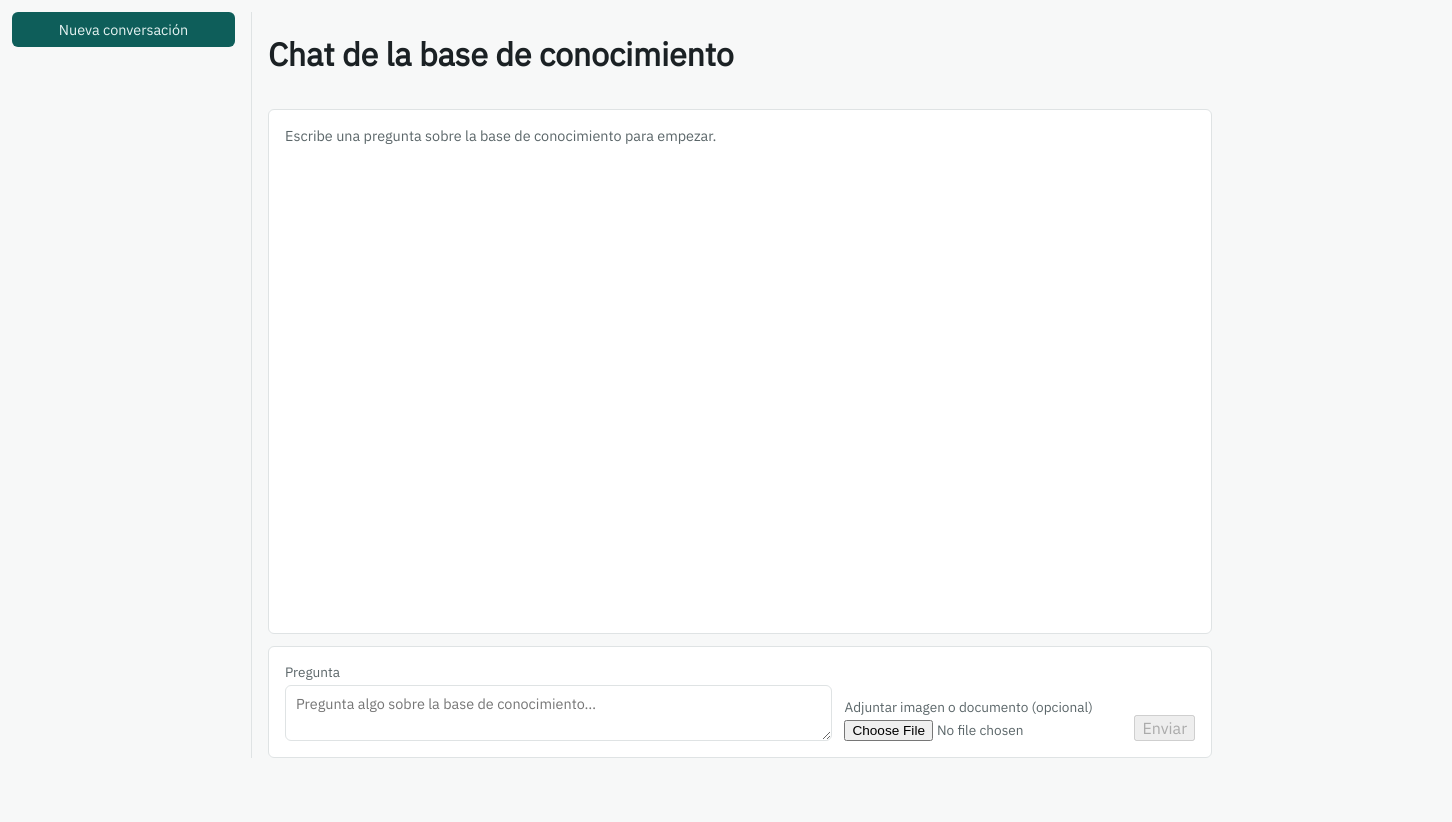
Chat (P-14 Bloque 3, HU-31..34) › muestra un error si el envío falla
Type "una pregunta" into the text box with placeholder "Pregunta algo sobre la base de conocimiento…" at (559, 713), box [285, 685, 832, 741]
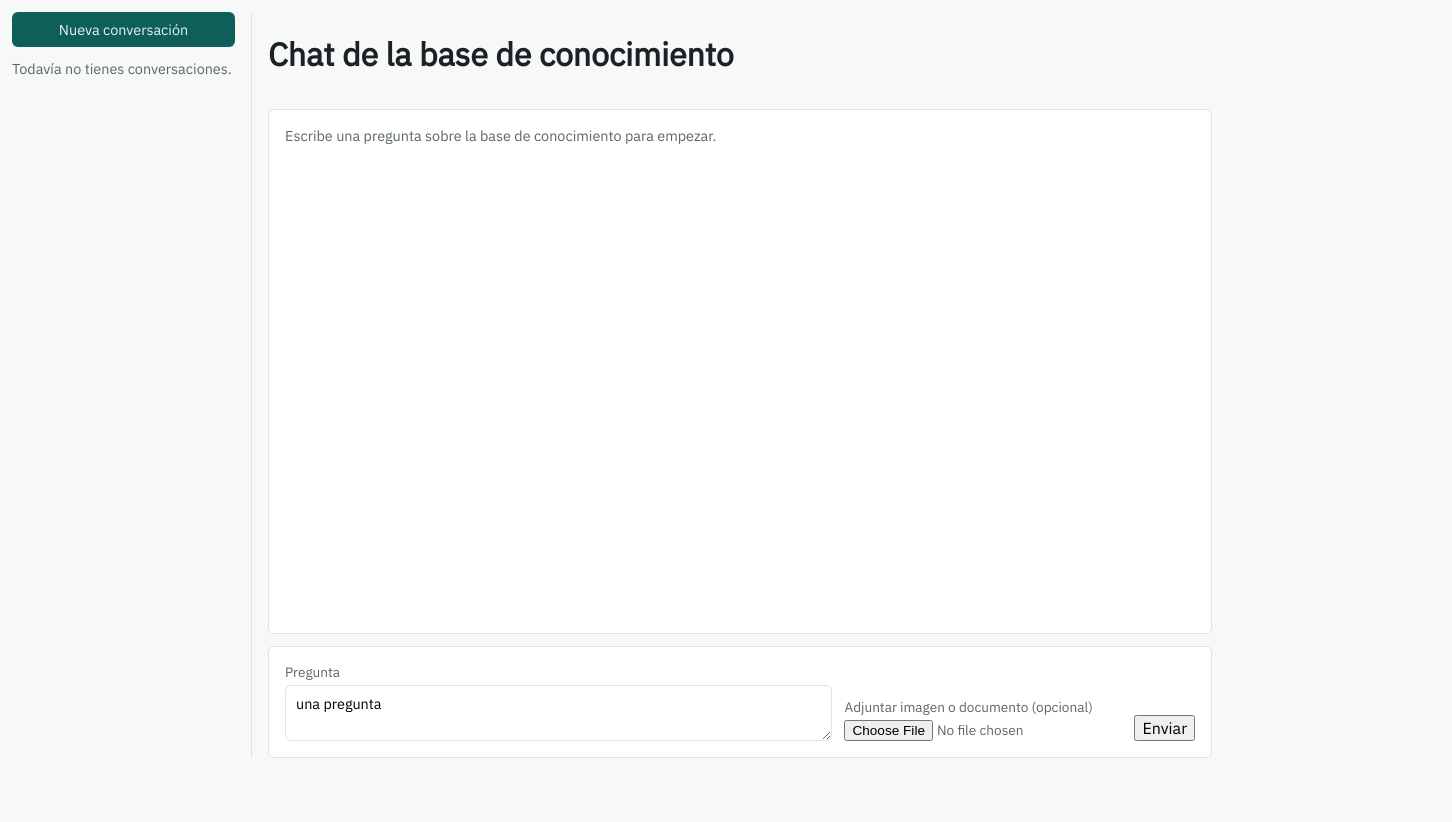
Click the button "Enviar" at (1165, 728), box [1134, 715, 1195, 741]
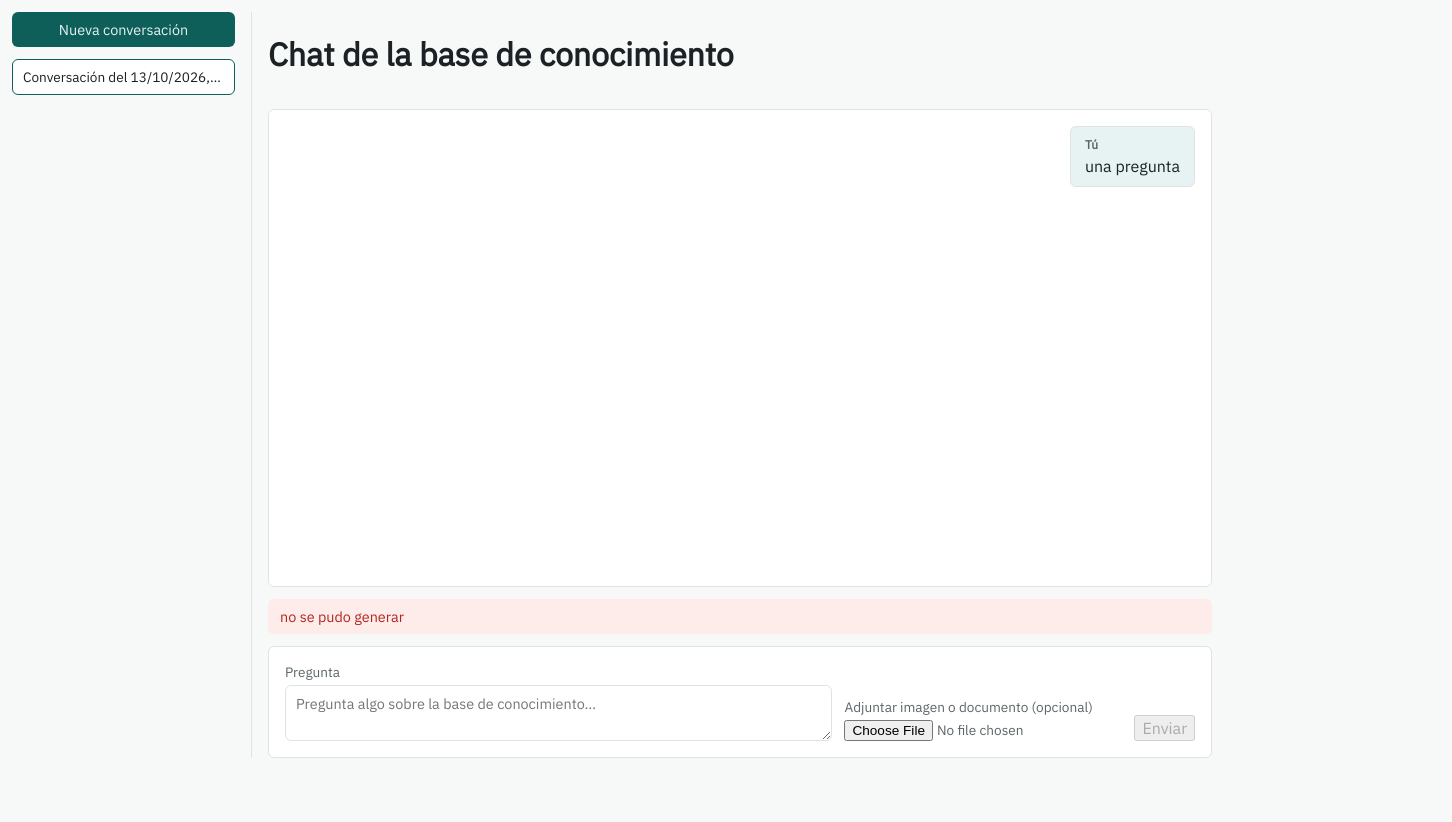
Result: the text "no se pudo generar" is shown at [268, 599, 1212, 634]
